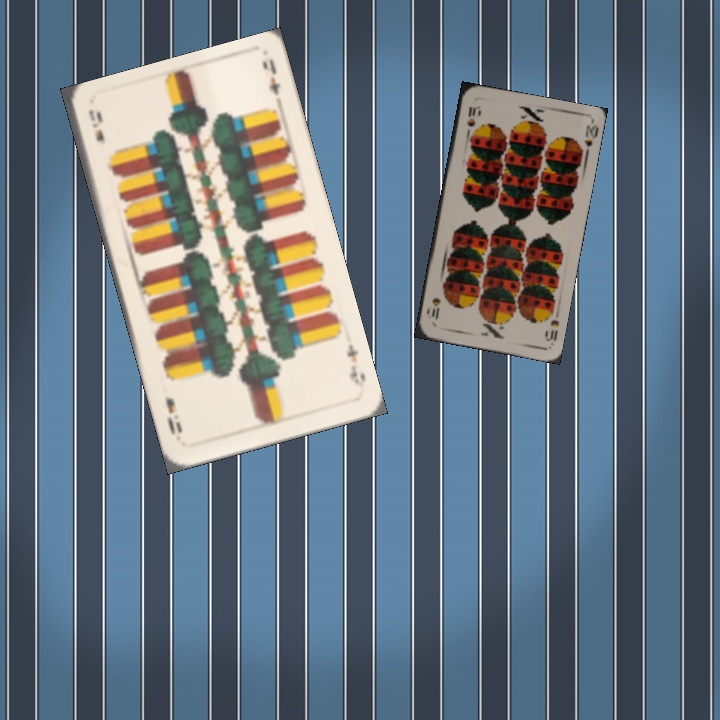E9: (342, 340, 369, 390), (84, 106, 107, 146)
S10: (462, 102, 480, 139), (540, 316, 562, 344)
